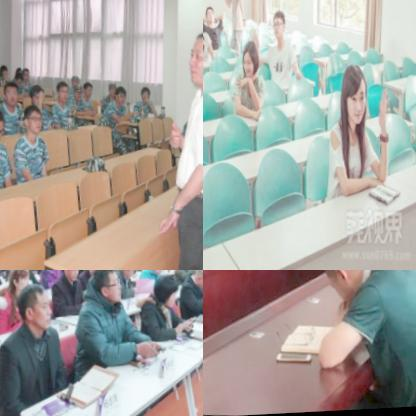head: (306, 270, 369, 309), (331, 64, 367, 129), (12, 282, 54, 336), (181, 31, 203, 93), (147, 276, 176, 314), (86, 270, 119, 303), (236, 39, 259, 81), (17, 104, 40, 136), (265, 10, 286, 45), (1, 270, 26, 295), (24, 85, 43, 112), (0, 80, 16, 109), (52, 82, 68, 106), (187, 270, 203, 294), (109, 87, 125, 109), (102, 83, 117, 102), (133, 86, 147, 106), (77, 82, 91, 100), (203, 3, 213, 28), (68, 85, 81, 104), (57, 270, 79, 281), (17, 67, 28, 87), (9, 72, 21, 89), (65, 75, 77, 91), (116, 270, 133, 279), (145, 270, 163, 278), (84, 270, 102, 275), (0, 63, 5, 80)
